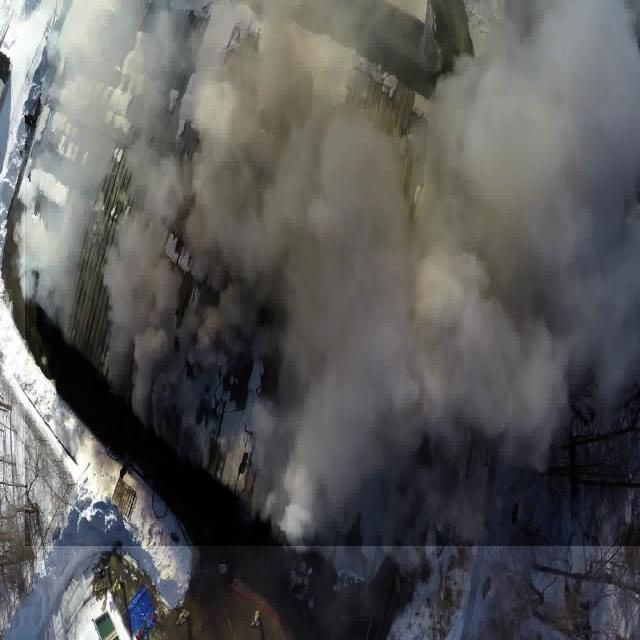Smoke: (25, 0, 640, 546)
